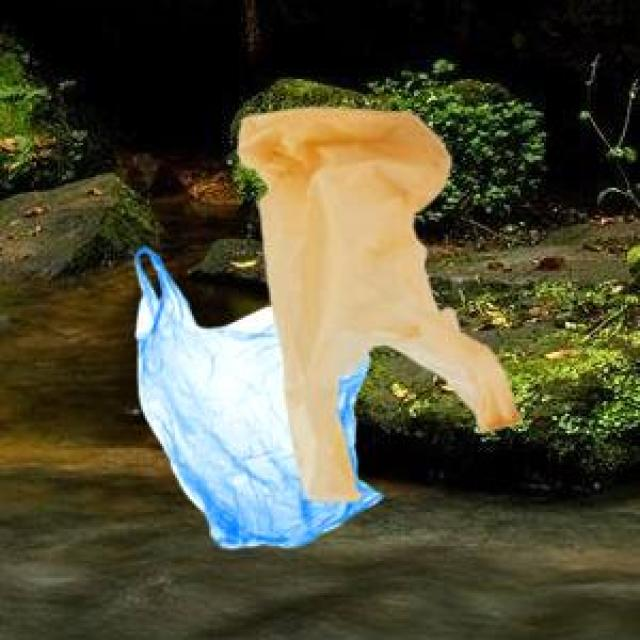plastic: (98, 90, 554, 592)
